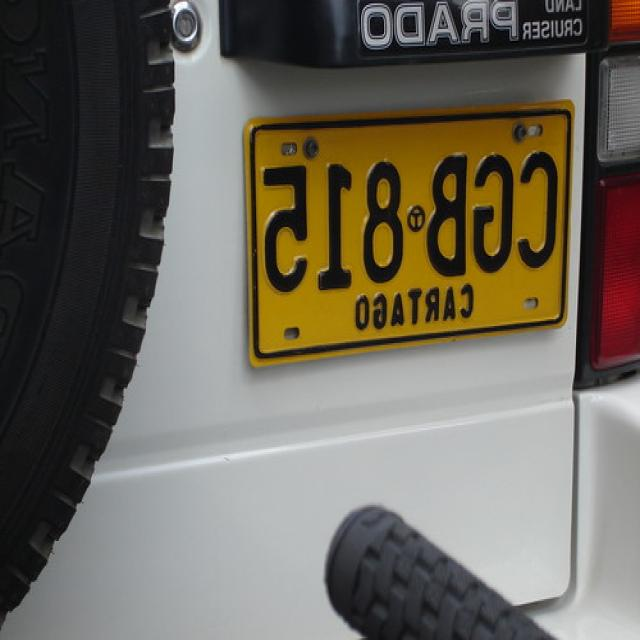placas: (245, 104, 569, 302)
